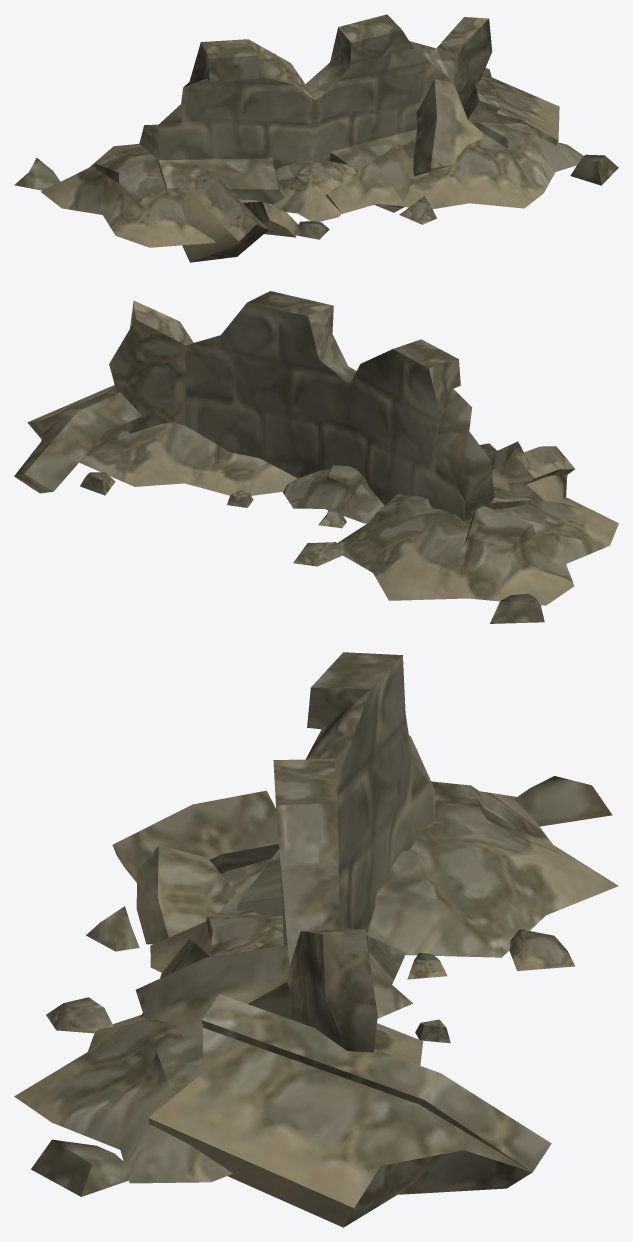
The model's file is DN_tushuguan_qiang_a.FBX.
3 views of the same model, one above another, from view 1: azimuth 30°, elevation 25°; view 2: azimuth 150°, elevation 25°; view 3: azimuth 270°, elevation 25° (orthographic). The views are drawn at different scales.
Parts seen in each view (by area): view 1: DN_tushuguan_qiang_a; view 2: DN_tushuguan_qiang_a; view 3: DN_tushuguan_qiang_a.
Part boxes in pixels (bbox=[...]): DN_tushuguan_qiang_a: bbox=[14, 14, 618, 262]; DN_tushuguan_qiang_a: bbox=[14, 291, 618, 623]; DN_tushuguan_qiang_a: bbox=[14, 652, 618, 1227].
Bounding box in the file's own units: 503 × 167 × 301.
